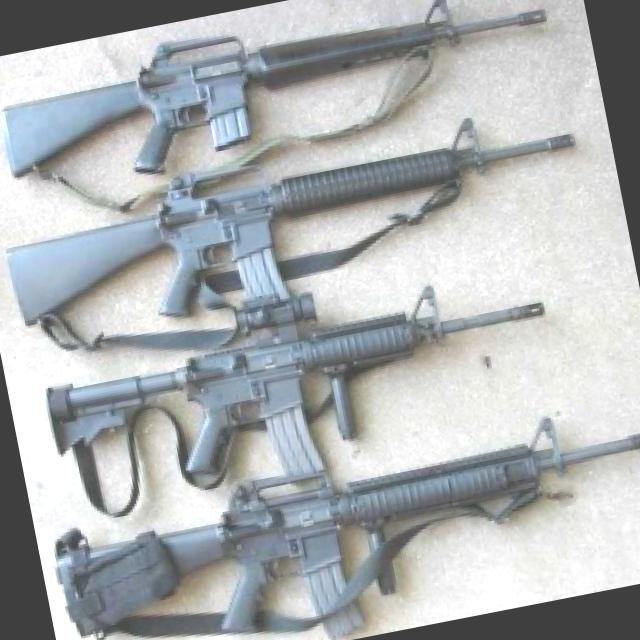long weapon: (16, 226, 594, 518), (29, 380, 639, 639), (5, 90, 536, 337), (3, 0, 518, 204)
